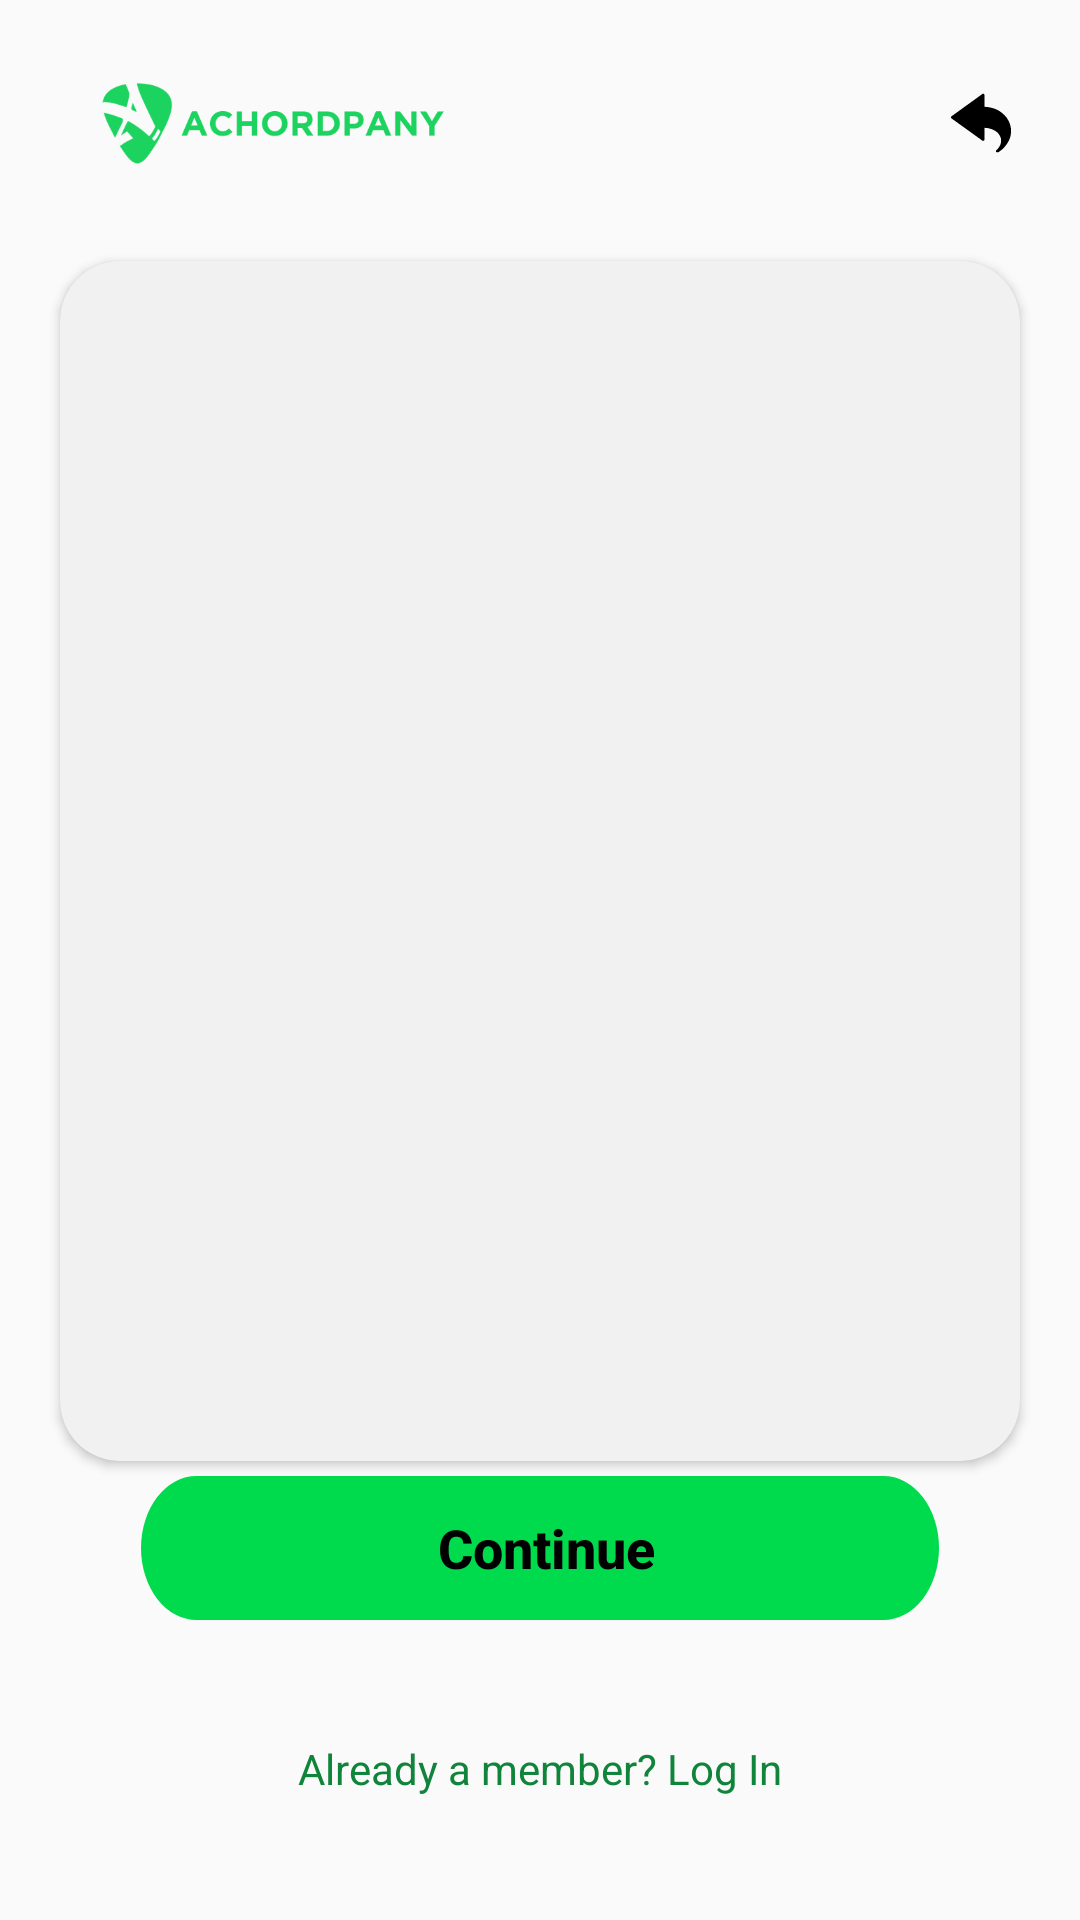

Icon bounding boxes for this 1080w x 1920h phone screenshot, format (x1, y1, x2, y2):
Back: (951, 93, 1011, 153)
